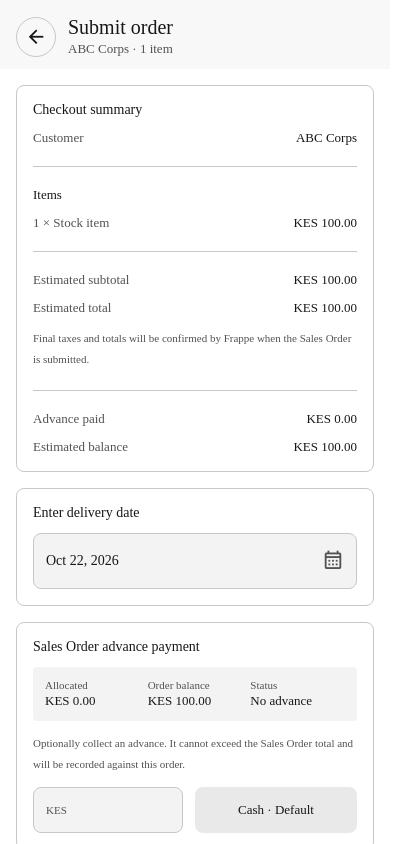
Scenario: PosCheckoutScreen › blocks a Sales Order advance above the order total
The width and height of the screenshot is (402, 844).
Type "101" into the field named "Cash amount" at coordinates (164, 810), box [67,790,261,830]
(page scrolled)
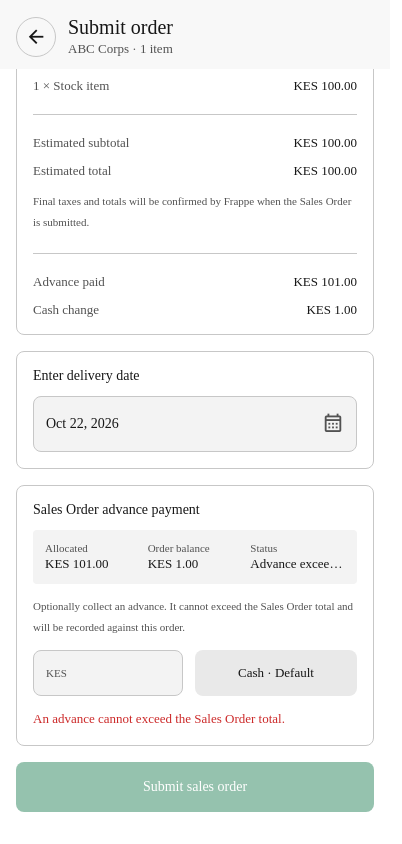
Expected: the text "An advance cannot exceed the Sales Order total." is shown, [33,711,285,726]
Expected: the element labelled "Submit sales order" is disabled, [16,762,374,812]
